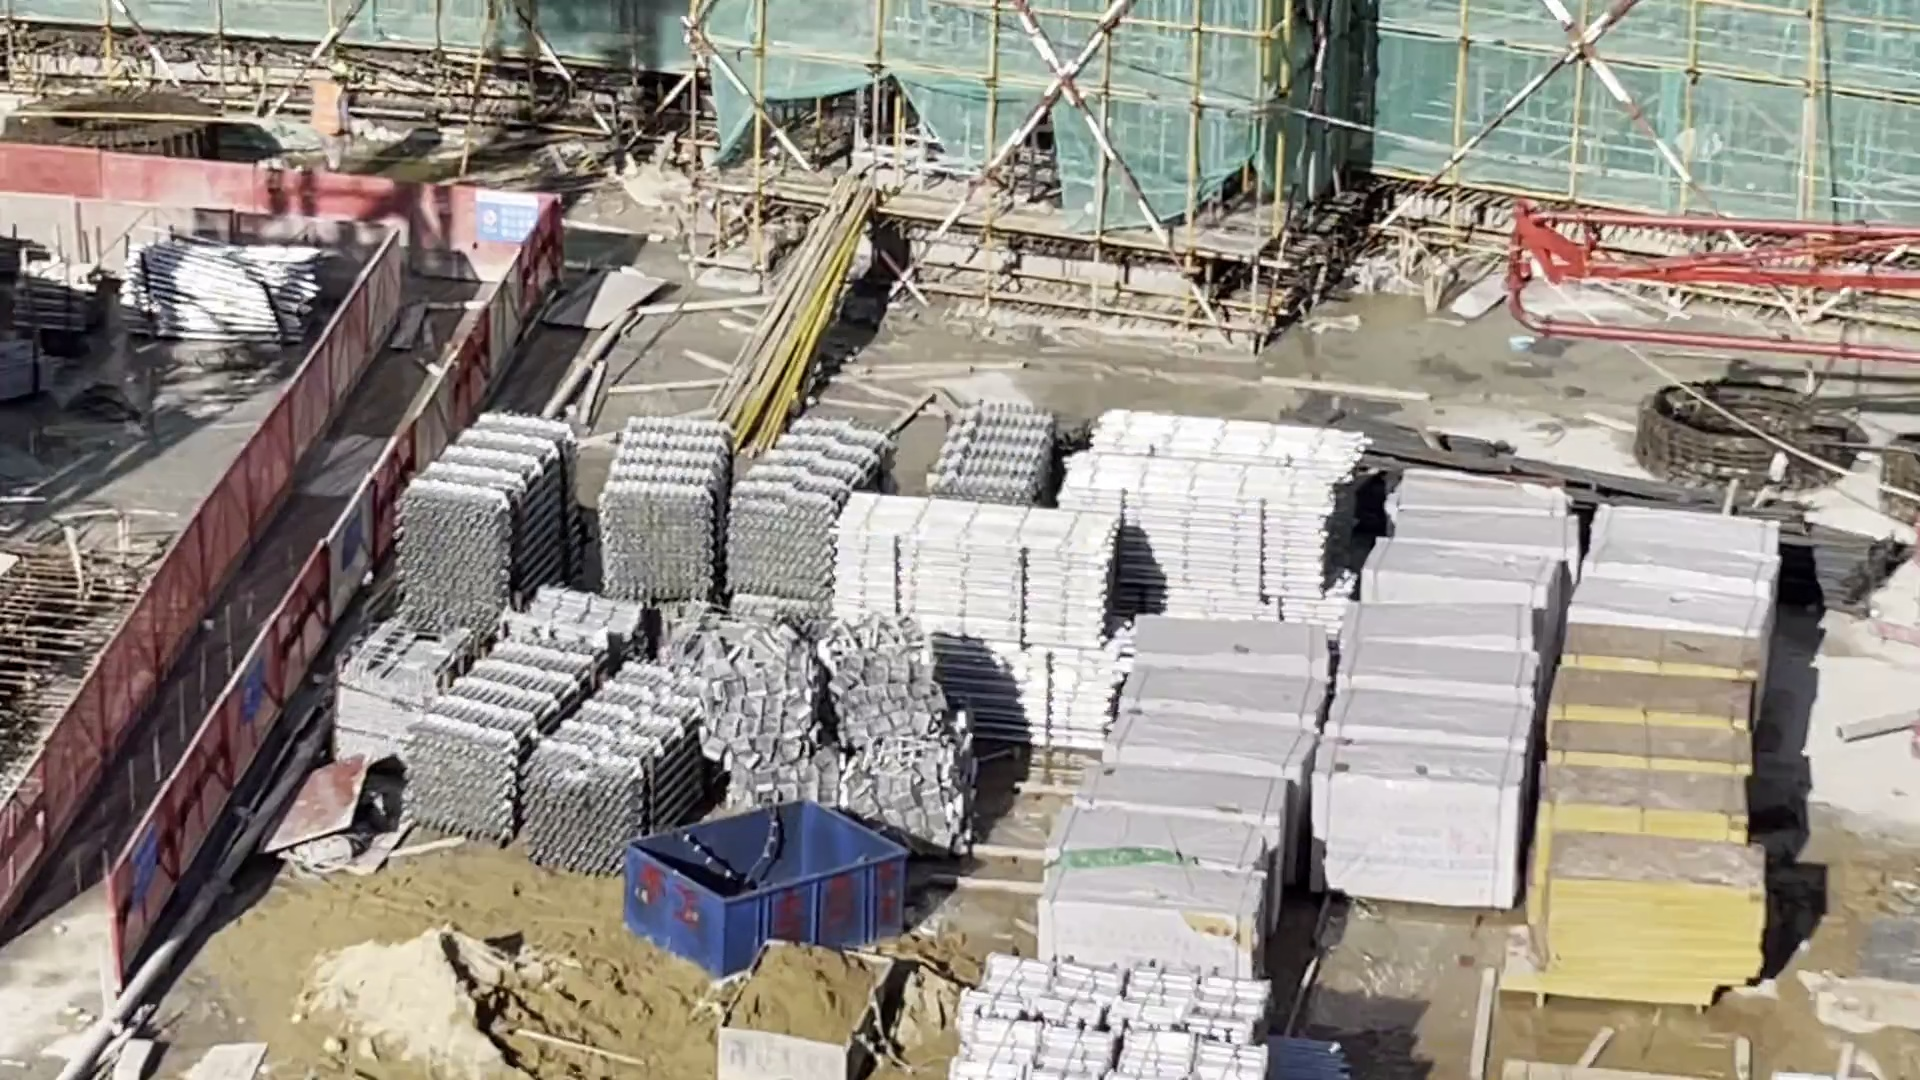board: (1536, 626, 1759, 1011)
fence: (3, 247, 555, 931), (1, 142, 462, 319)
hopper: (625, 806, 902, 981), (719, 942, 898, 1080)
rebar: (1365, 429, 1909, 604)
scaffold: (833, 495, 1117, 750), (411, 644, 705, 876), (1063, 407, 1360, 622), (609, 423, 884, 597), (961, 953, 1261, 1080), (402, 418, 582, 618), (129, 243, 320, 345), (932, 401, 1051, 506)
slogan: (473, 193, 546, 243), (131, 819, 154, 906), (240, 649, 265, 723)
